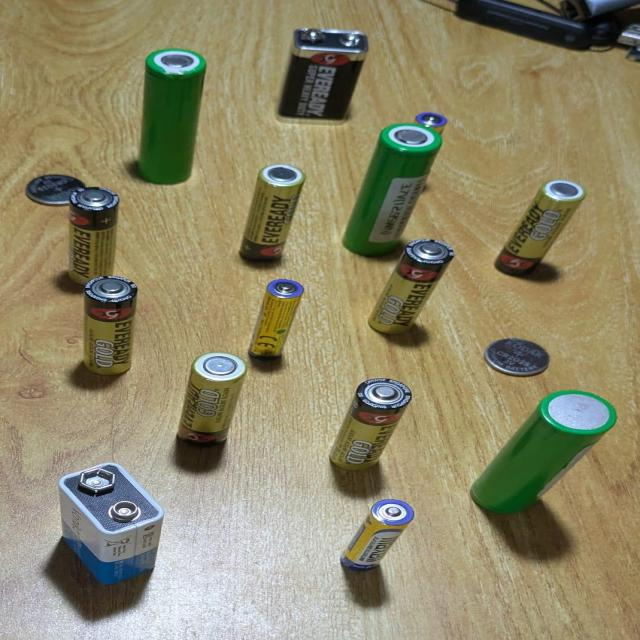9V: (56, 461, 168, 585), (278, 28, 370, 123)
AA: (492, 180, 584, 278), (365, 240, 453, 334), (329, 377, 413, 471), (238, 164, 306, 264), (176, 353, 247, 442), (82, 274, 138, 372), (68, 186, 121, 286)
AAA: (340, 499, 414, 575), (248, 280, 304, 359), (420, 108, 444, 129)
COIN: (482, 337, 551, 376), (25, 174, 88, 206)
